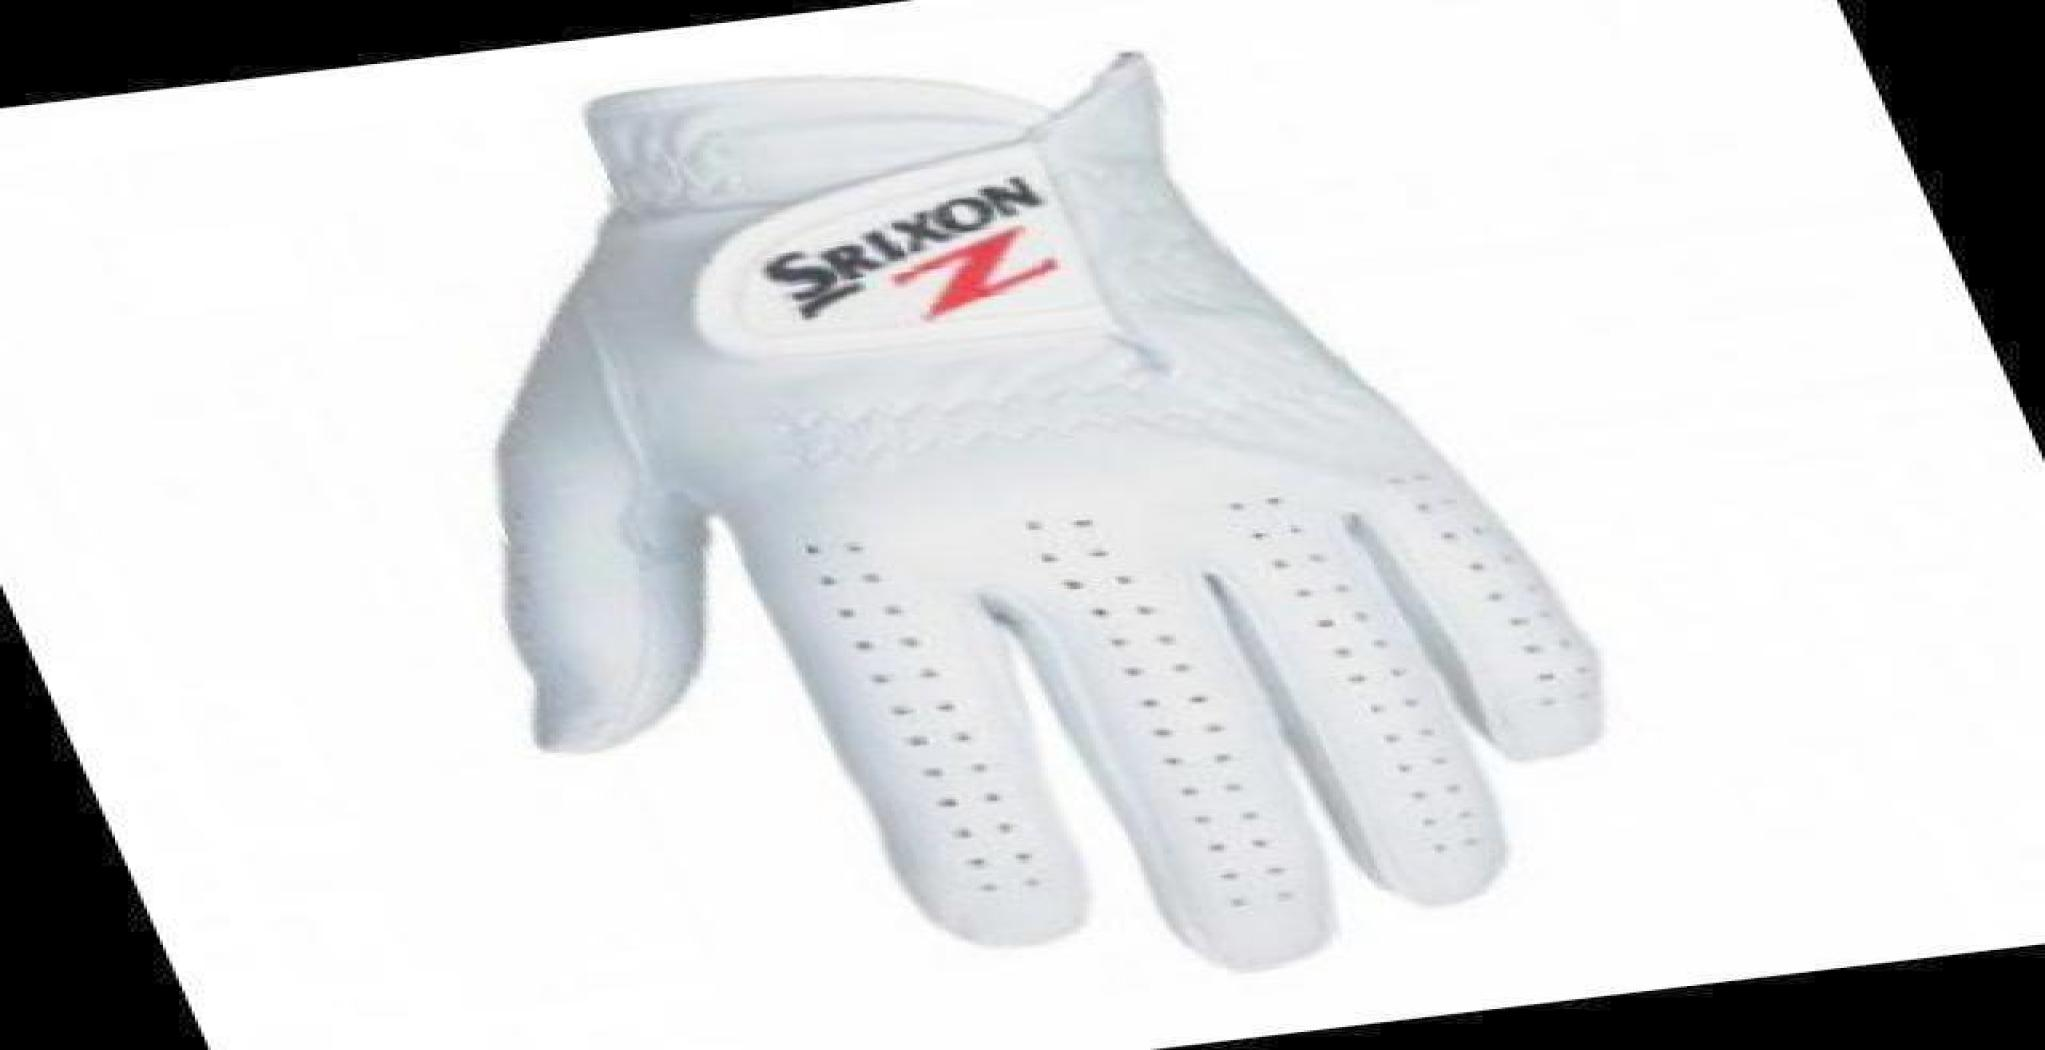gloved: (486, 48, 1611, 971)
